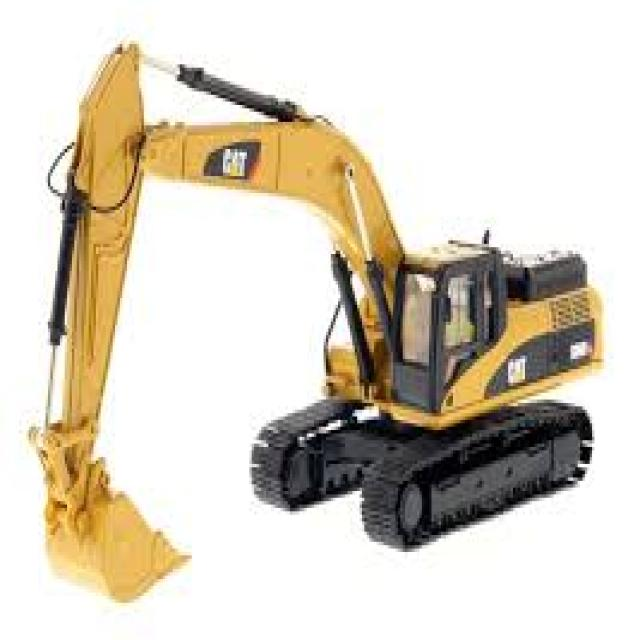excavator: (255, 223, 612, 564)
